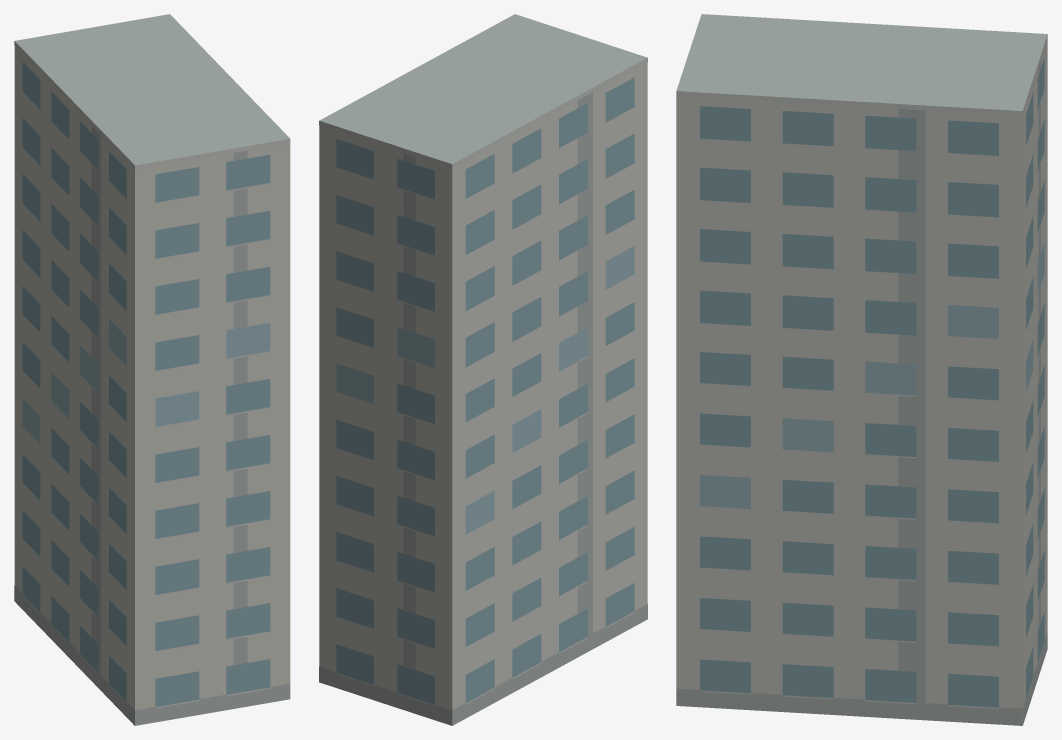
Rendered from residential-736d9bea-a7a8-4f8c-b64d-fb980d7a733f.glb.
3 views of the same model, side by side, from view 1: azimuth 30°, elevation 25°; view 2: azimuth 150°, elevation 25°; view 3: azimuth 270°, elevation 25° (orthographic). The views are drawn at different scales.
Visible parts, largest first — view 1: residential-736d9bea-a7a8-4f8c-b64d-fb980d7a733f.tmp; view 2: residential-736d9bea-a7a8-4f8c-b64d-fb980d7a733f.tmp; view 3: residential-736d9bea-a7a8-4f8c-b64d-fb980d7a733f.tmp.
Part boxes in pixels (<box>): residential-736d9bea-a7a8-4f8c-b64d-fb980d7a733f.tmp: <box>14,14,290,725</box>; residential-736d9bea-a7a8-4f8c-b64d-fb980d7a733f.tmp: <box>319,14,647,725</box>; residential-736d9bea-a7a8-4f8c-b64d-fb980d7a733f.tmp: <box>676,14,1047,725</box>.
Bounding box in the file's own units: 10.17 × 30 × 16.43.
